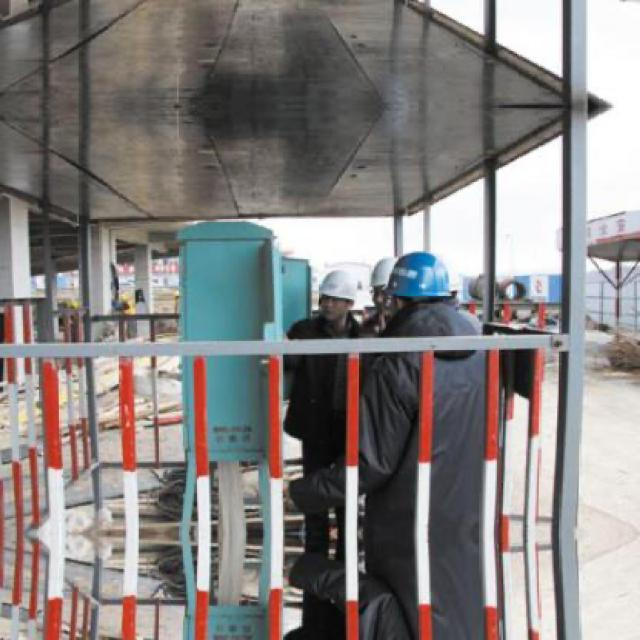helmet: (380, 240, 455, 338), (310, 260, 376, 328)
